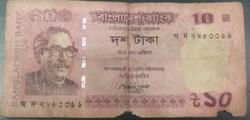10 taka: (8, 0, 245, 115)
